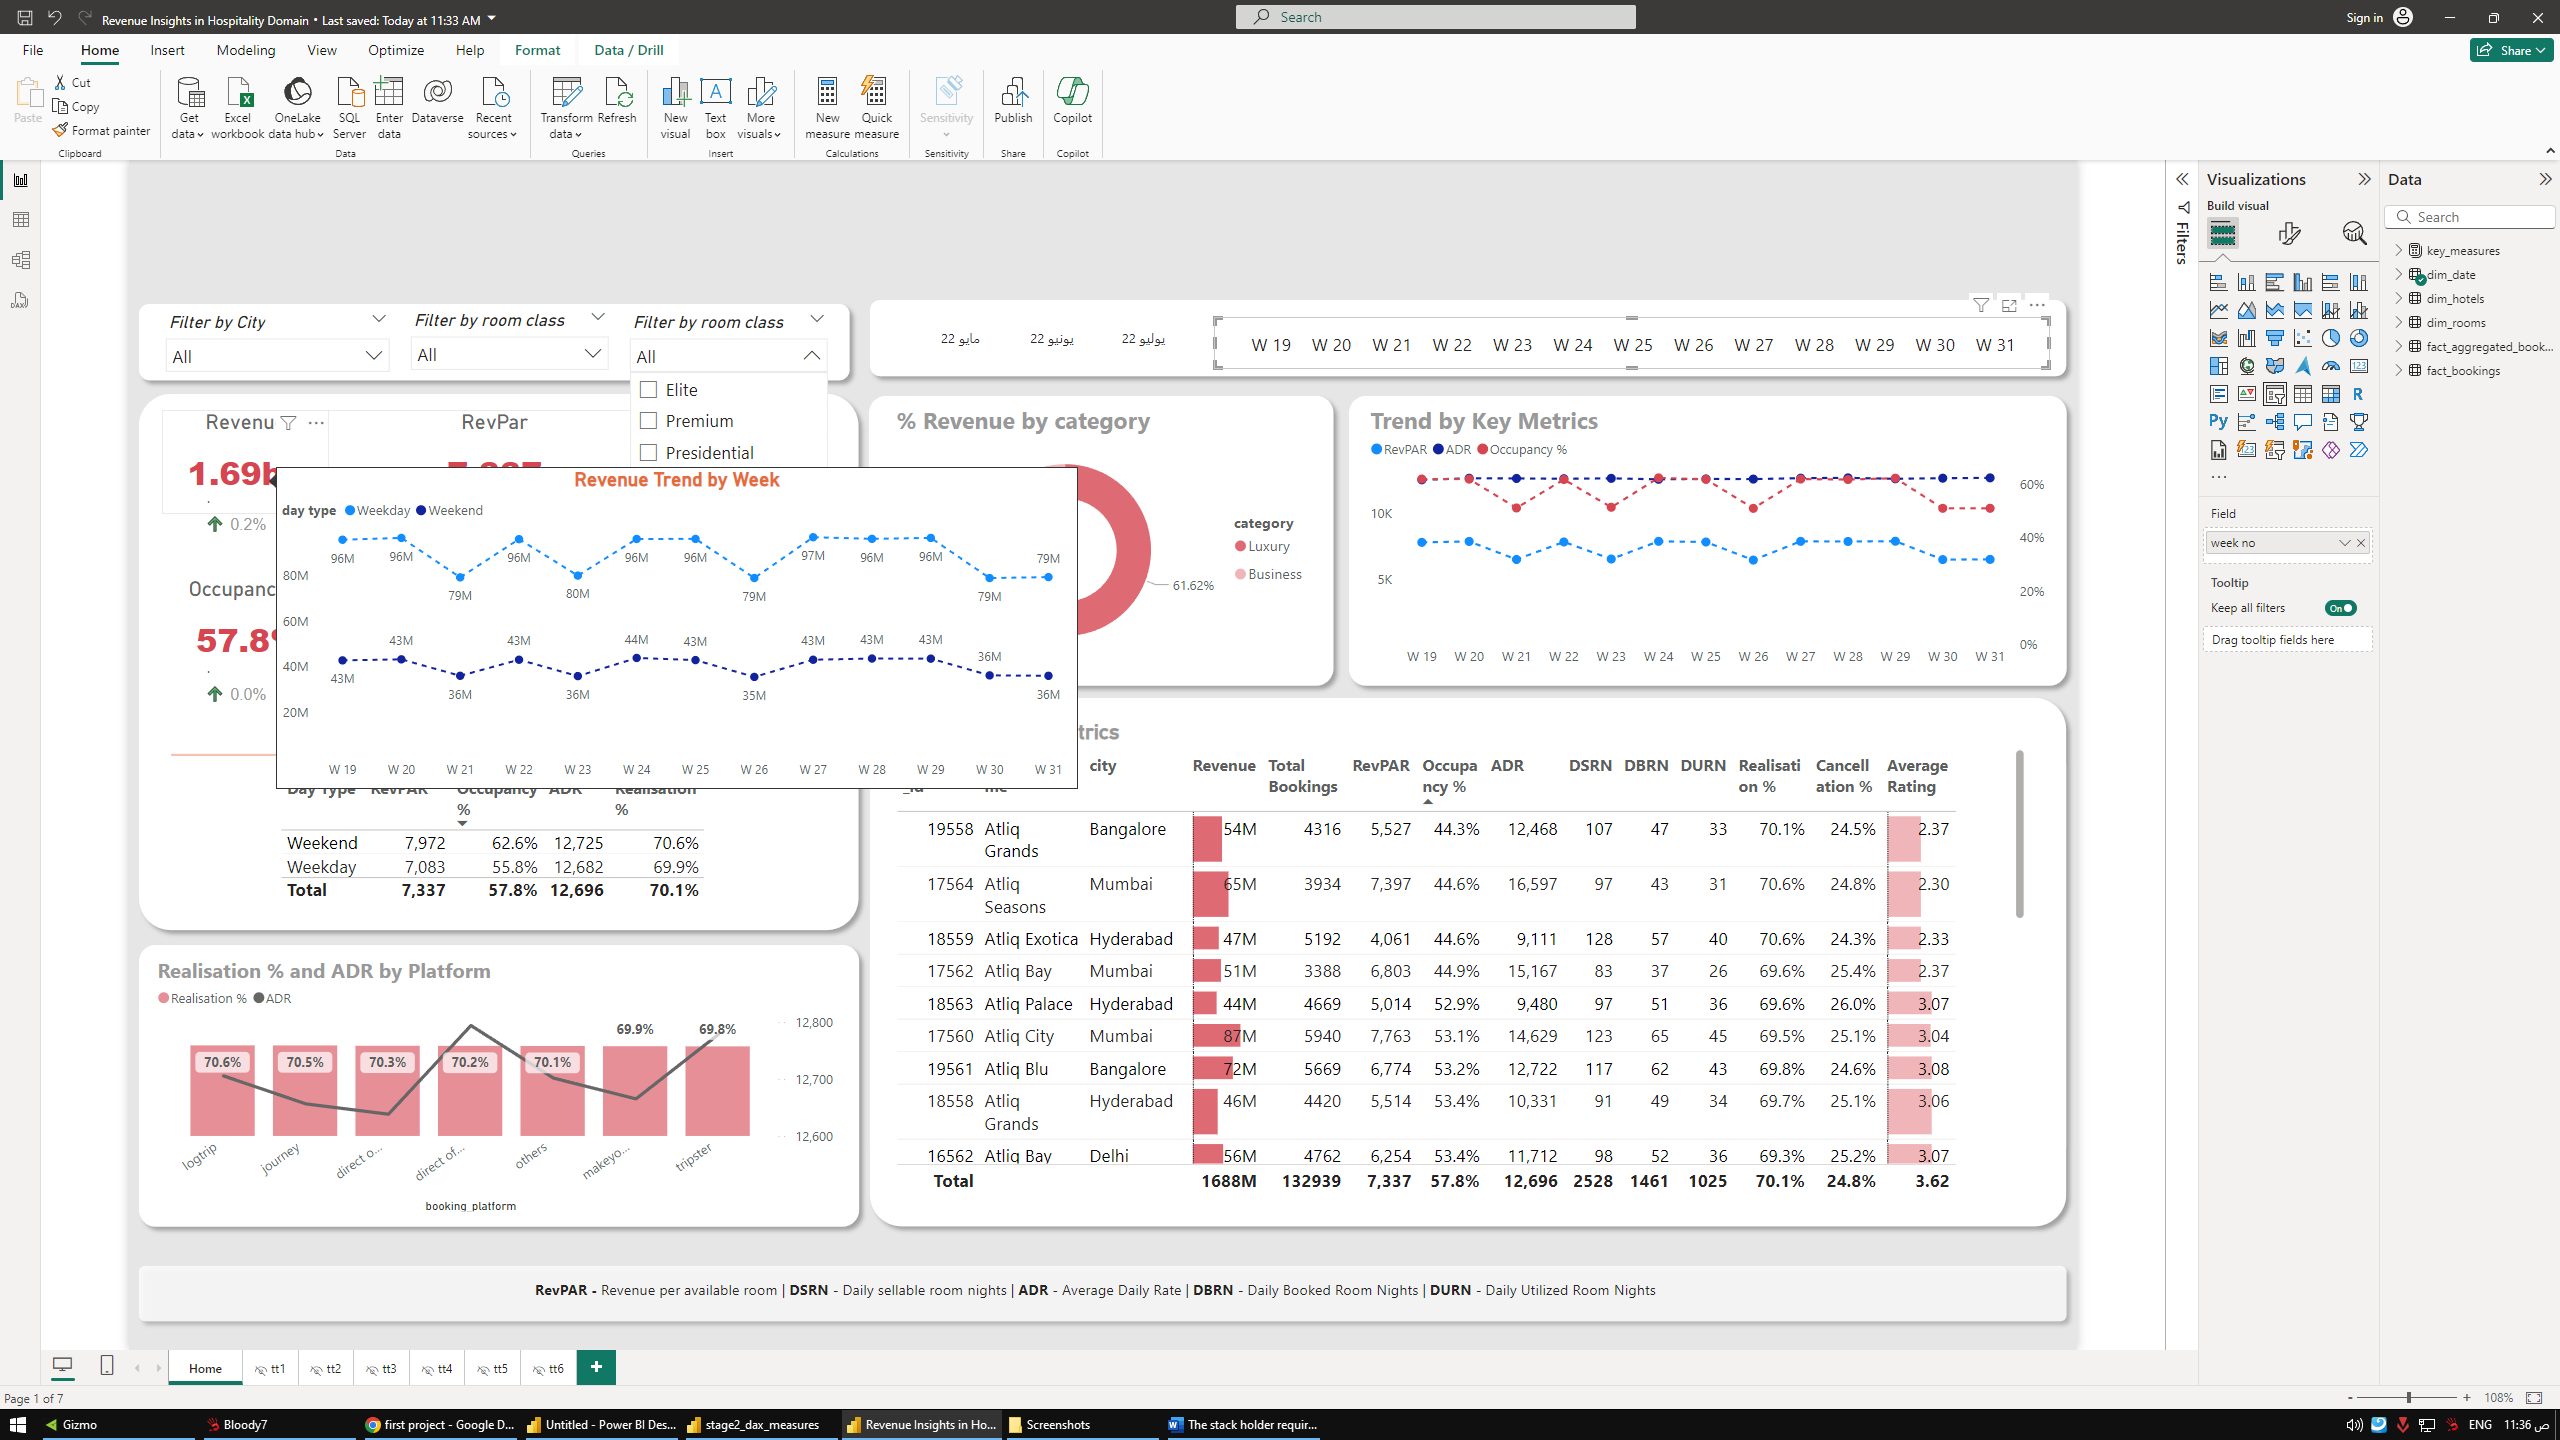

The page's visual inventory and layout, read from the dashboard file:
{"tool":"powerbi","page":{"name":"Page 1","canvas":[1280,720],"ordinal":0},"visuals":[{"type":"tableEx","fields":{"Values":["dim_hotels.property_id","dim_hotels.property_name","key_measures.Revenue","key_measures.Total Bookings","key_measures.RevPAR","key_measures.Occupancy %","key_measures.ADR","key_measures.DSRN","key_measures.DBRN","key_measures.DURN","key_measures.Realisation %","key_measures.Cancellation %"]},"box":[277.8,248.5,987.6,446.6],"z":0},{"type":"advancedSlicerVisual","title":"filter by city ","fields":{"Values":["dim_hotels.city"]},"box":[0,113.9,478.8,62.1],"z":1000},{"type":"advancedSlicerVisual","title":"filter by room type","fields":{"Values":["dim_rooms.room_class"]},"box":[0,51.2,555.5,69.4],"z":2000},{"type":"advancedSlicerVisual","fields":{"Values":["dim_date.mmm yy"]},"box":[552.5,64.6,238.8,56],"z":3000},{"type":"advancedSlicerVisual","fields":{"Values":["dim_date.week no"]},"box":[0,0,1104.8,51],"z":4000},{"type":"card","title":"Revenue","fields":{"Values":["key_measures.Revenue"]},"box":[0,176.5,127.4,87.9],"z":5000},{"type":"tableEx","fields":{"Values":["key_measures.Revenue WoW change %"]},"box":[15.9,248.5,107,59.9],"z":6000},{"type":"donutChart","fields":{"Category":["dim_hotels.category"],"Y":["key_measures.Occupancy %"]},"box":[997.1,52.9,257.4,182.2],"z":6001}]}

Visuals, with their boxes on the page's 1280x720 design canvas (x1, y1, x2, y2). These are canvas units, not pixel positions in the 2560x1440 screenshot, which may show the page scaled, cropped or inside an application window:
tableEx - dim_hotels.property_id x dim_hotels.property_name: [x1=278, y1=248, x2=1265, y2=695]
"filter by city " advancedSlicerVisual: [x1=0, y1=114, x2=479, y2=176]
"filter by room type" advancedSlicerVisual: [x1=0, y1=51, x2=556, y2=121]
advancedSlicerVisual - dim_date.mmm yy: [x1=552, y1=65, x2=791, y2=121]
advancedSlicerVisual - dim_date.week no: [x1=0, y1=0, x2=1105, y2=51]
"Revenue" card: [x1=0, y1=176, x2=127, y2=264]
tableEx - key_measures.Revenue WoW change %: [x1=16, y1=248, x2=123, y2=308]
donutChart - dim_hotels.category x key_measures.Occupancy %: [x1=997, y1=53, x2=1254, y2=235]
